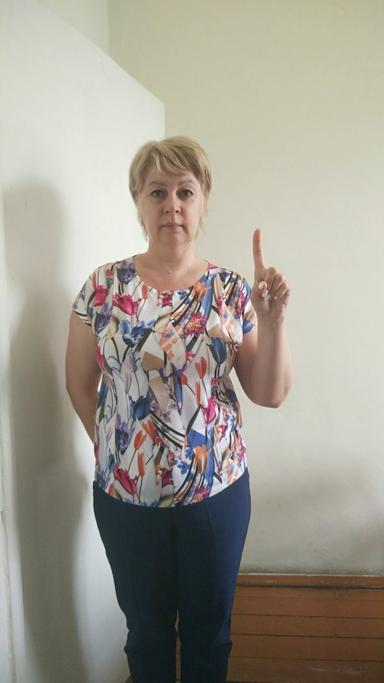one: (247, 227, 292, 319)
